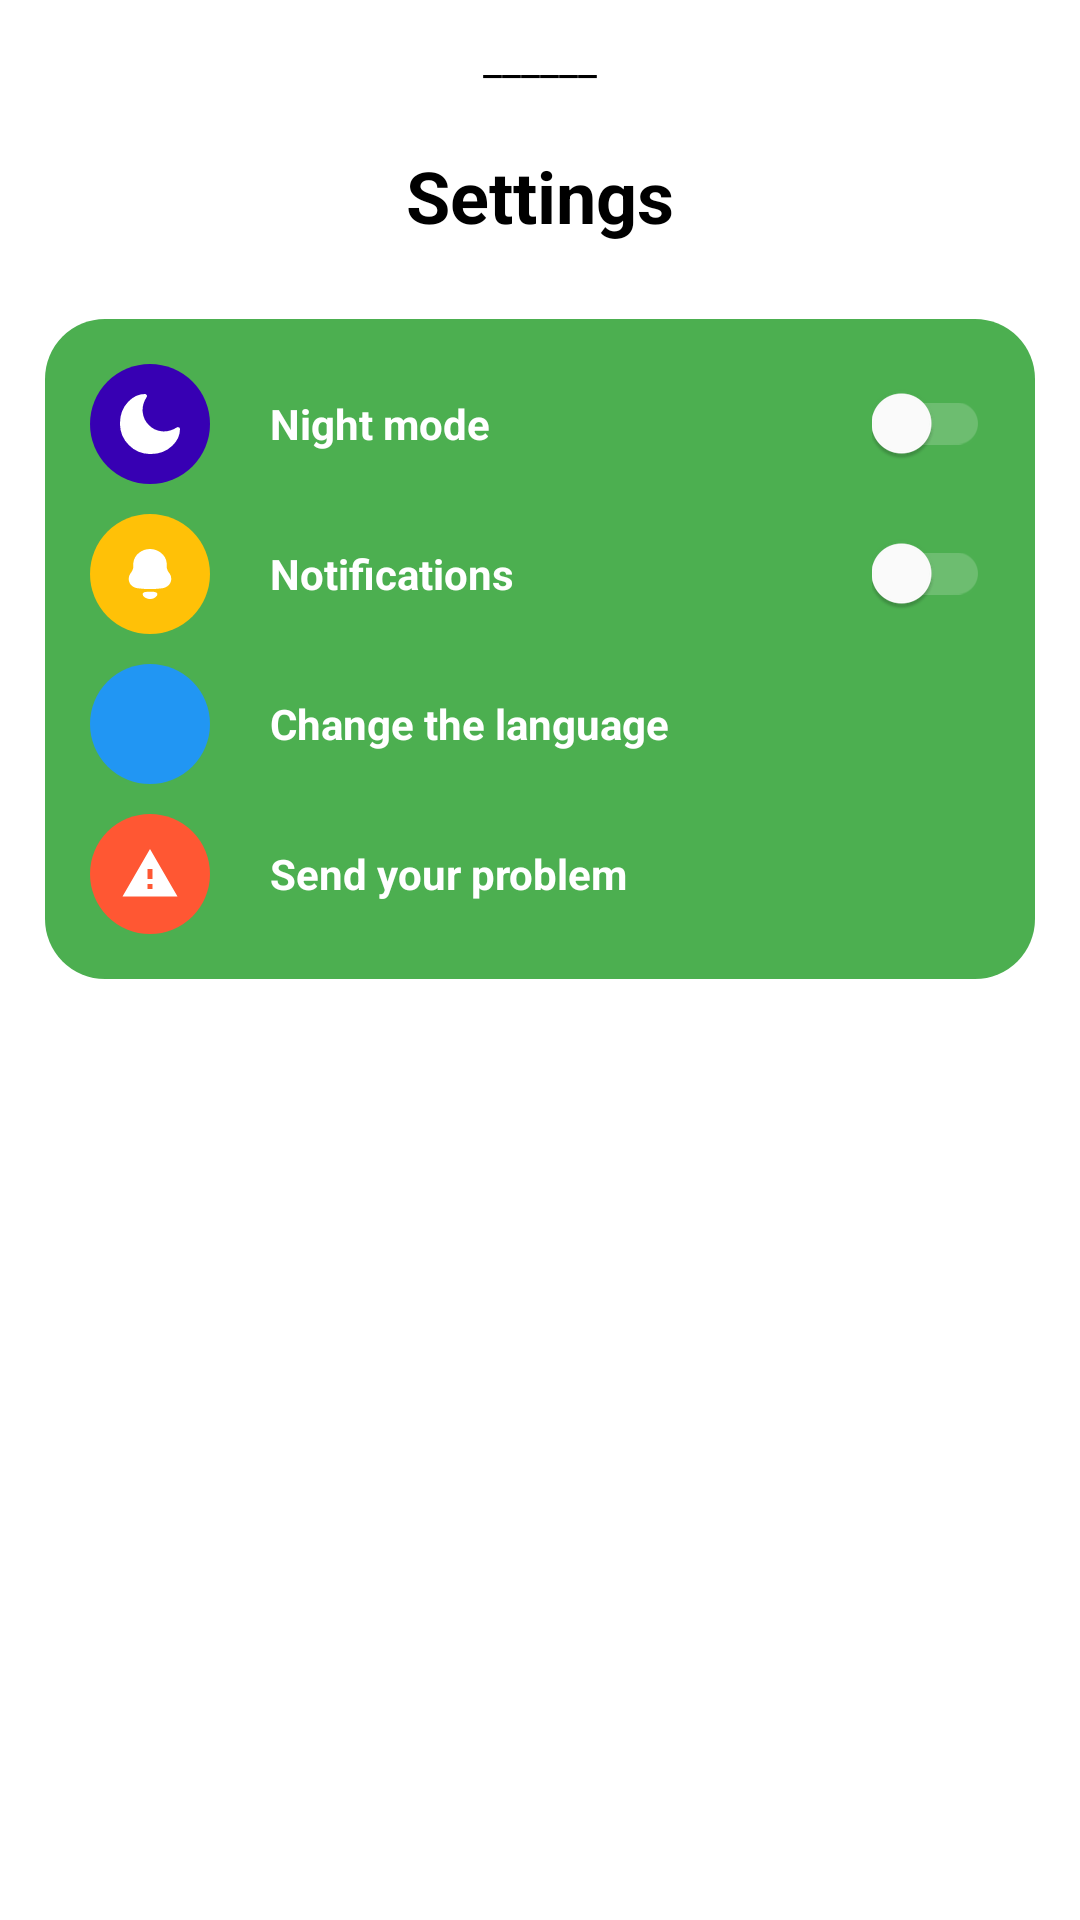

Locate icon controls on the screen. Image size 1080w x 1920h, boxes as (x1, y1, x2, y2).
moon: (90, 364, 210, 484)
report problem: (90, 814, 210, 934)
